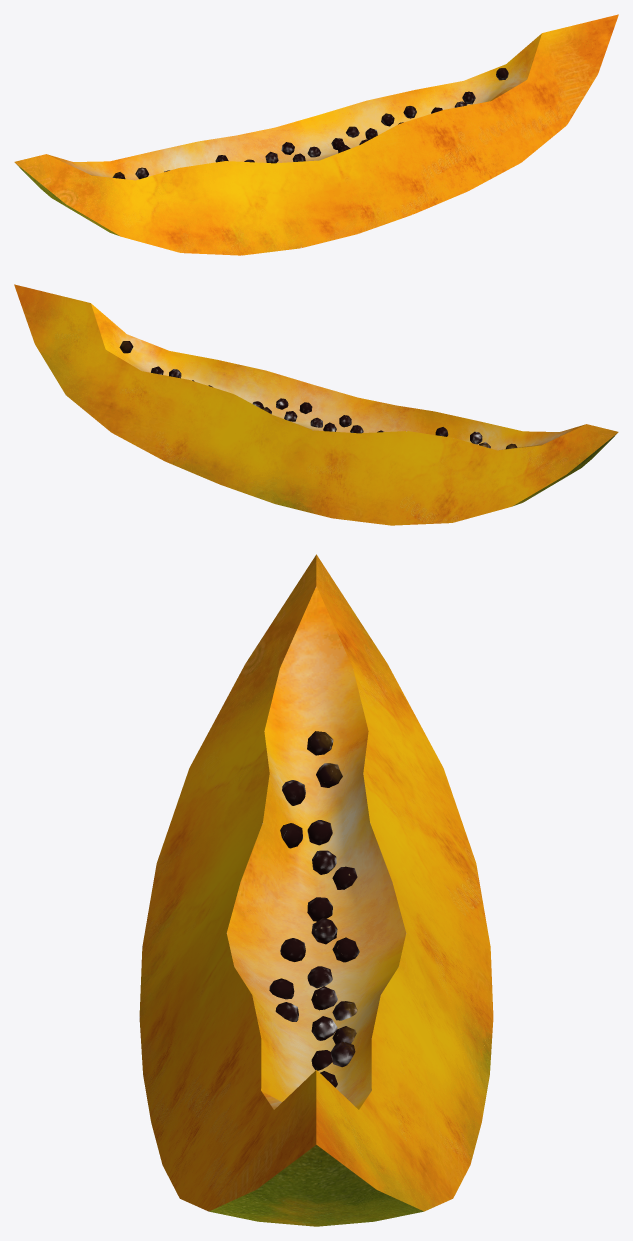
Rendered from PapayaSlice.FBX.
The picture shows the model from 3 angles, top to bottom: view 1: azimuth 30°, elevation 25°; view 2: azimuth 150°, elevation 25°; view 3: azimuth 270°, elevation 25°; orthographic projection. The views are drawn at different scales.
Visible parts, largest first — view 1: PapayaSlice, PapayaSeeds; view 2: PapayaSlice, PapayaSeeds; view 3: PapayaSlice, PapayaSeeds.
Boxes of the visible parts, x1=… form: PapayaSlice: x1=14, y1=14, x2=618, y2=255; PapayaSeeds: x1=112, y1=68, x2=508, y2=179; PapayaSlice: x1=14, y1=284, x2=618, y2=525; PapayaSeeds: x1=119, y1=341, x2=517, y2=449; PapayaSlice: x1=139, y1=554, x2=493, y2=1226; PapayaSeeds: x1=269, y1=731, x2=359, y2=1087.
Bounding box in the file's own units: 132 × 26.43 × 33.37.
